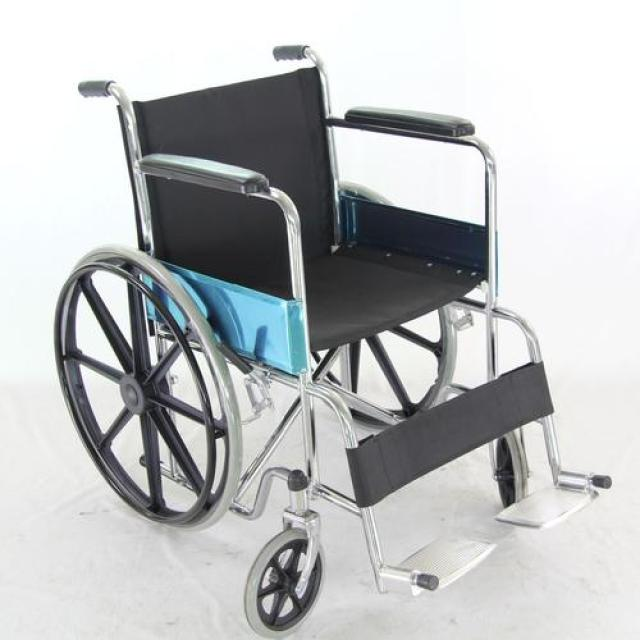wheelchairs: (34, 27, 640, 636)
